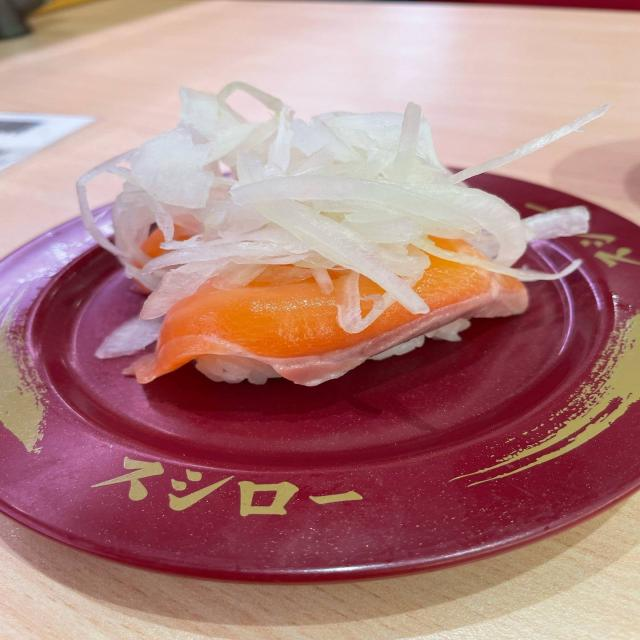janred: (0, 190, 640, 571)
